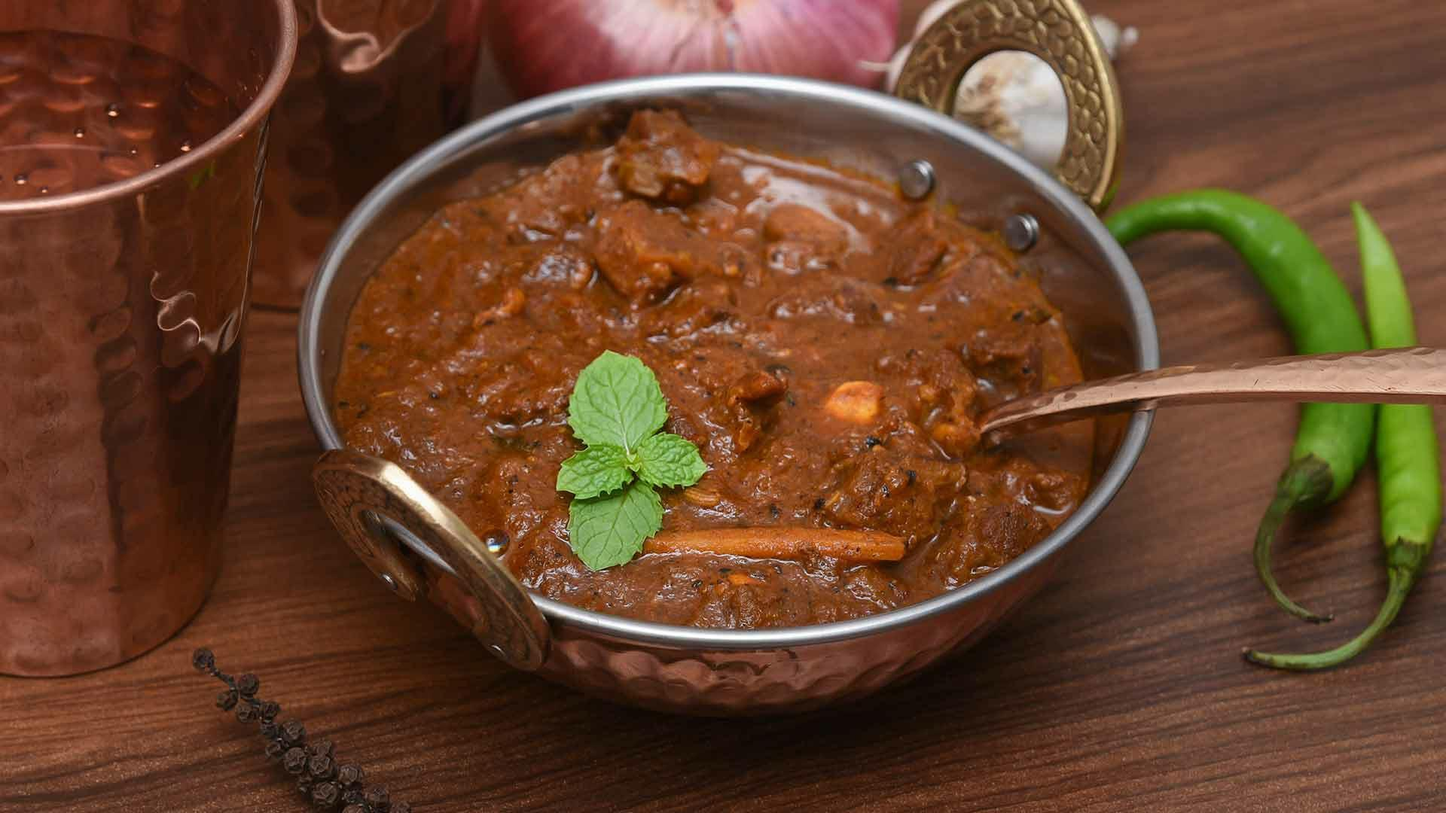MuttonCurry: (339, 108, 1085, 629)
